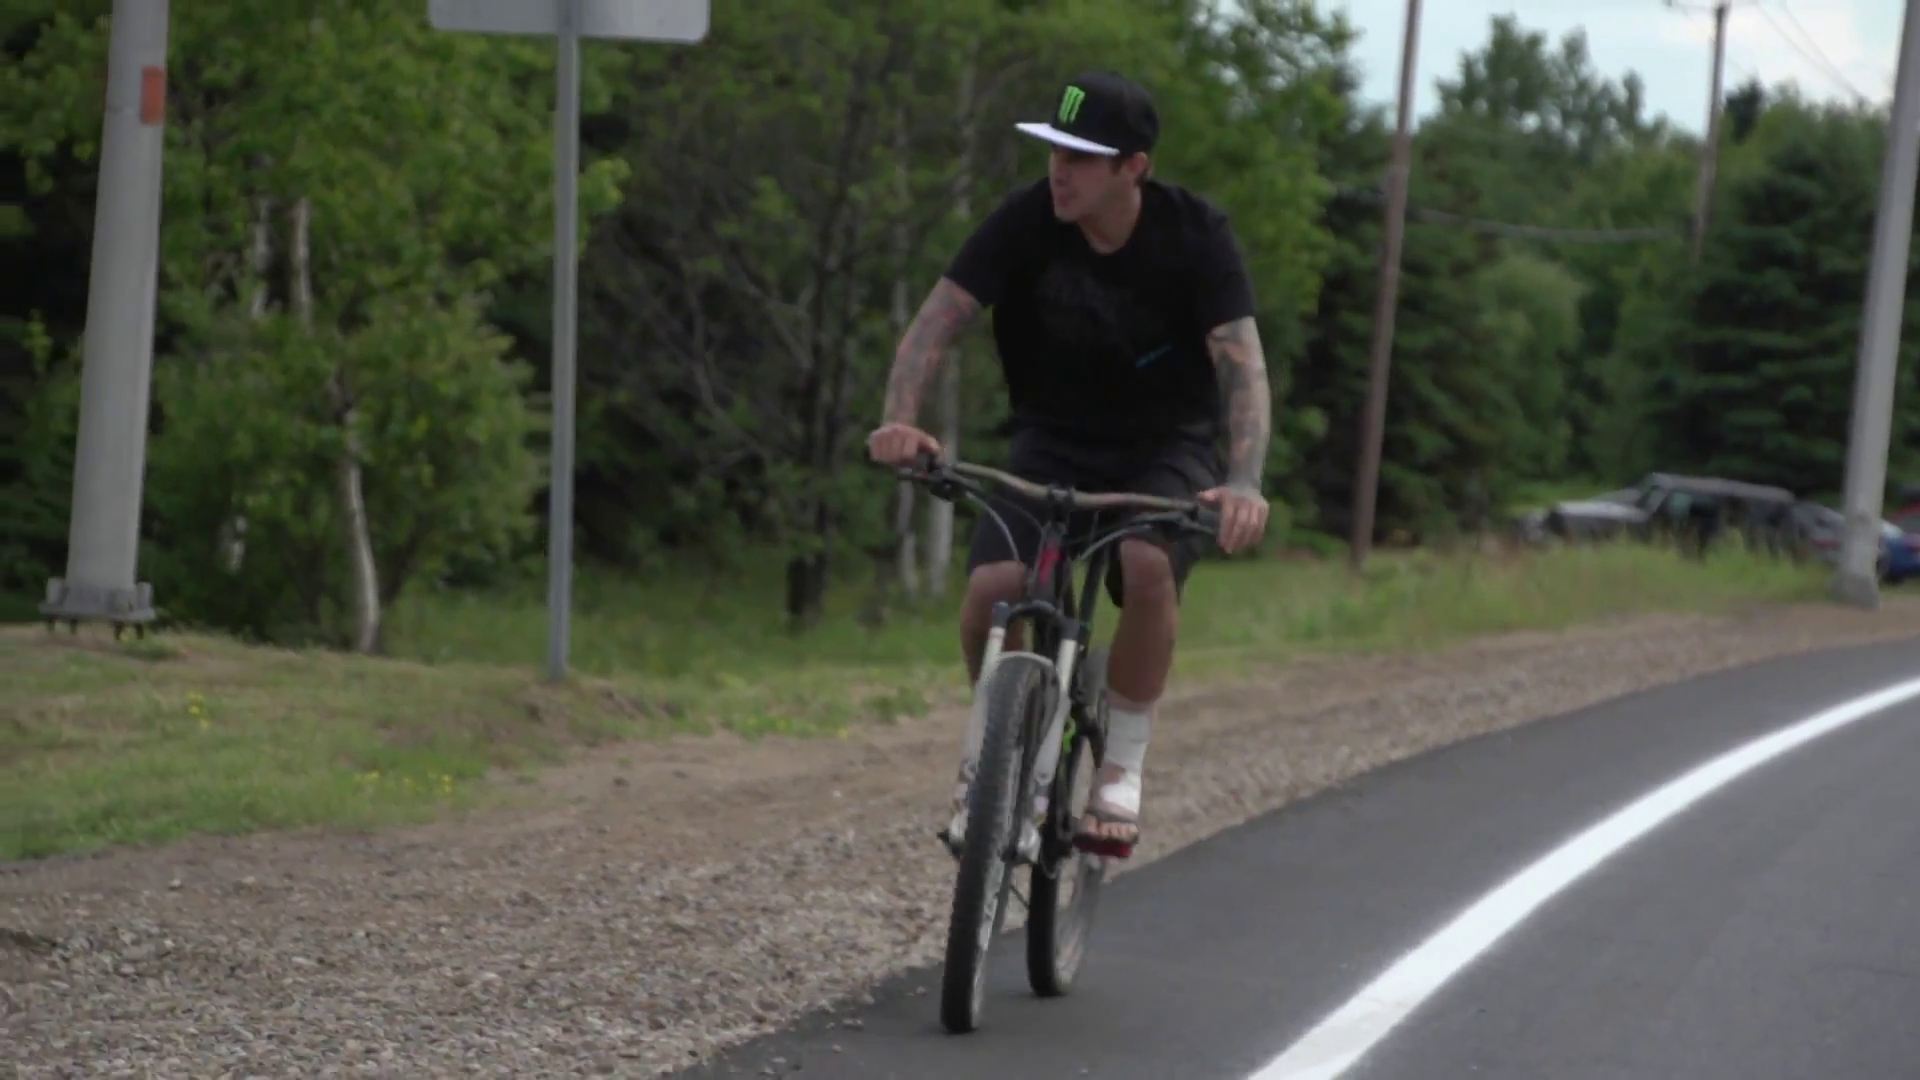person: (868, 72, 1271, 857)
